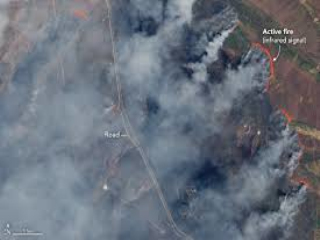smoke: (128, 7, 302, 221)
